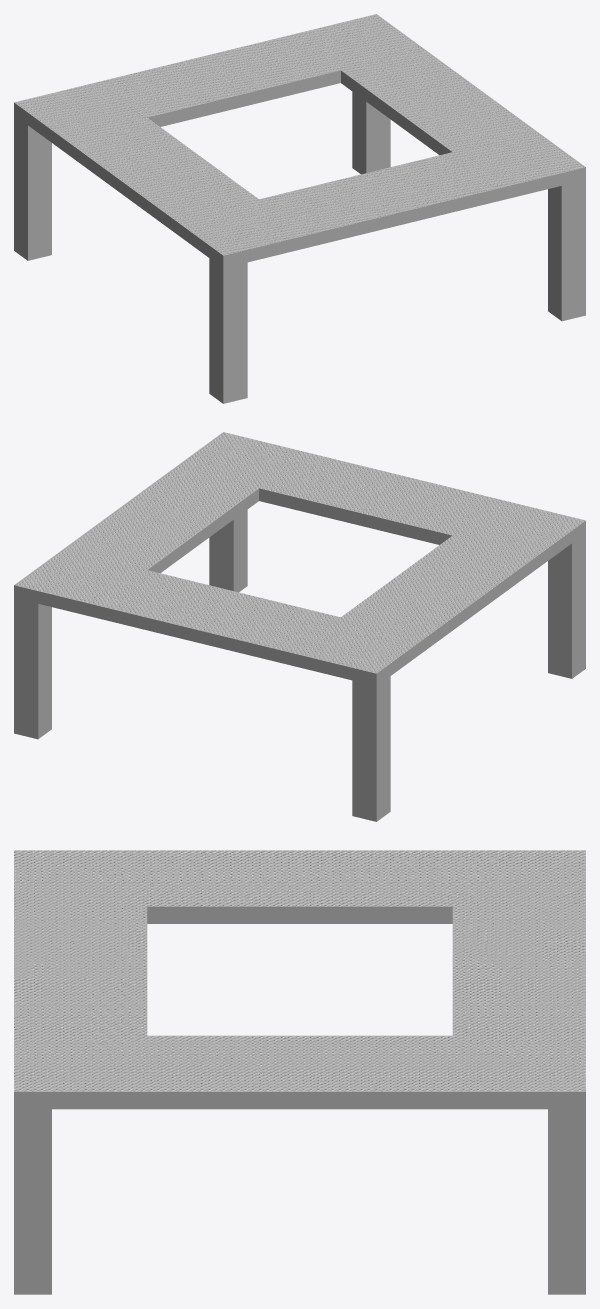
Rendered from TankPlatformStage.dae.
The picture shows the model from 3 angles, top to bottom: view 1: azimuth 30°, elevation 25°; view 2: azimuth 150°, elevation 25°; view 3: azimuth 270°, elevation 25°; orthographic projection. The views are drawn at different scales.
Parts seen in each view (by area): view 1: group_0 (×3); view 2: group_0 (×3); view 3: group_0 (×3).
Boxes of the visible parts, bbox=[...] form: group_0 (×3): bbox=[14, 14, 585, 403]; group_0 (×3): bbox=[14, 432, 585, 821]; group_0 (×3): bbox=[14, 850, 585, 1294].
Bounding box in the file's own units: 118 × 118 × 46.14.
2 materials, 1 textured.
